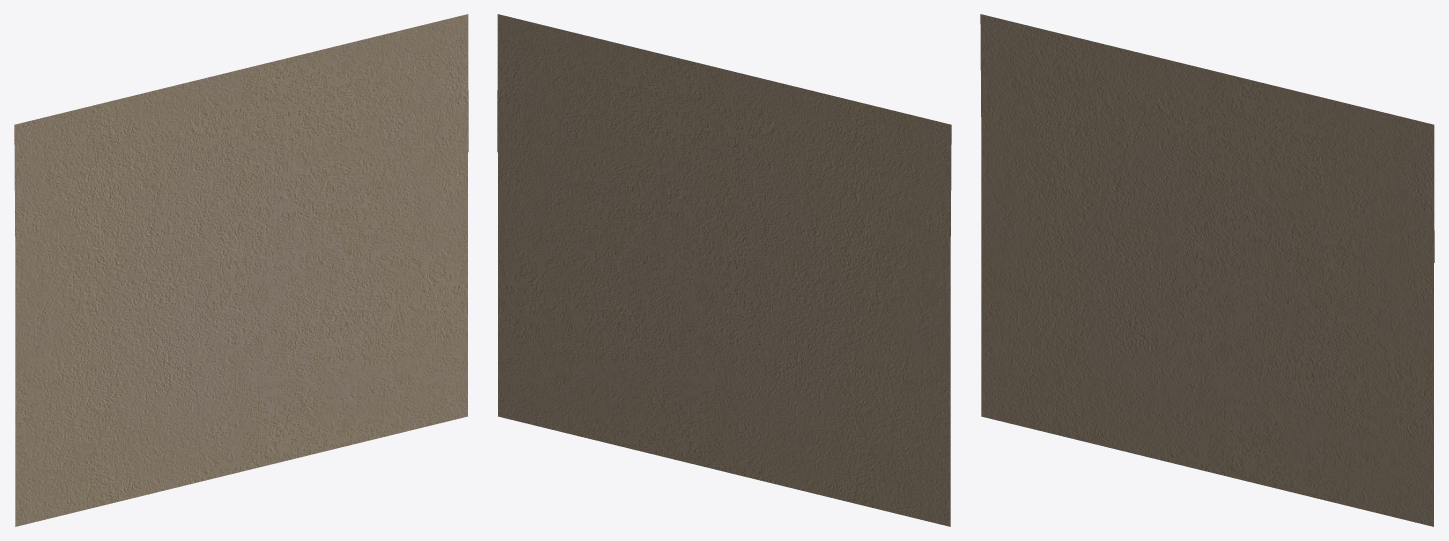
The model's file is Wall.fbx.
The picture shows the model from 3 angles, left to right: view 1: azimuth 30°, elevation 25°; view 2: azimuth 150°, elevation 25°; view 3: azimuth 330°, elevation 25°; orthographic projection.
Parts seen in each view (by area): view 1: Material2.006; view 2: Material2.006; view 3: Material2.006.
Part boxes in pixels (<box>): Material2.006: <box>14,14,468,526</box>; Material2.006: <box>497,14,951,526</box>; Material2.006: <box>980,14,1434,526</box>.
Size of the model in its own units: 846 by 716 by 0.00045.
Materials: 1 (1 with a texture image).
